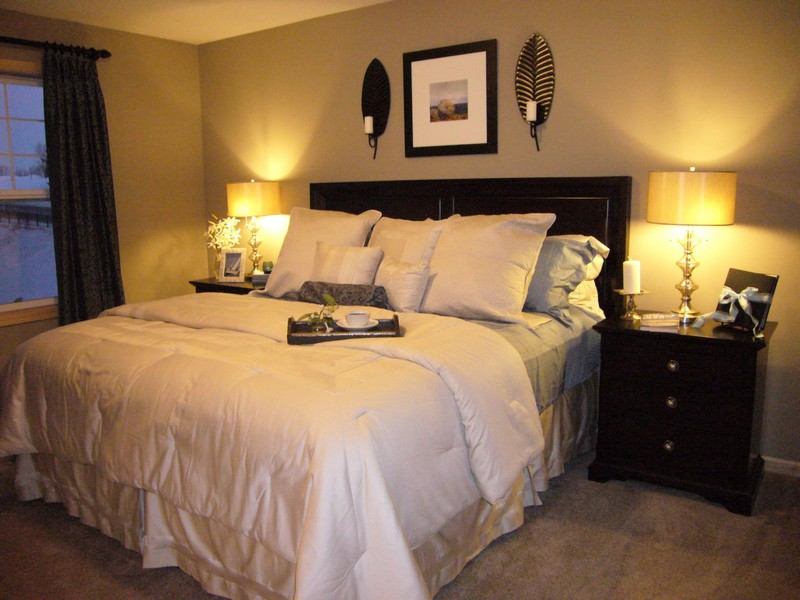bed: (25, 177, 634, 584)
lamp: (645, 170, 736, 323), (223, 178, 284, 281)
stool: (593, 310, 773, 519)
